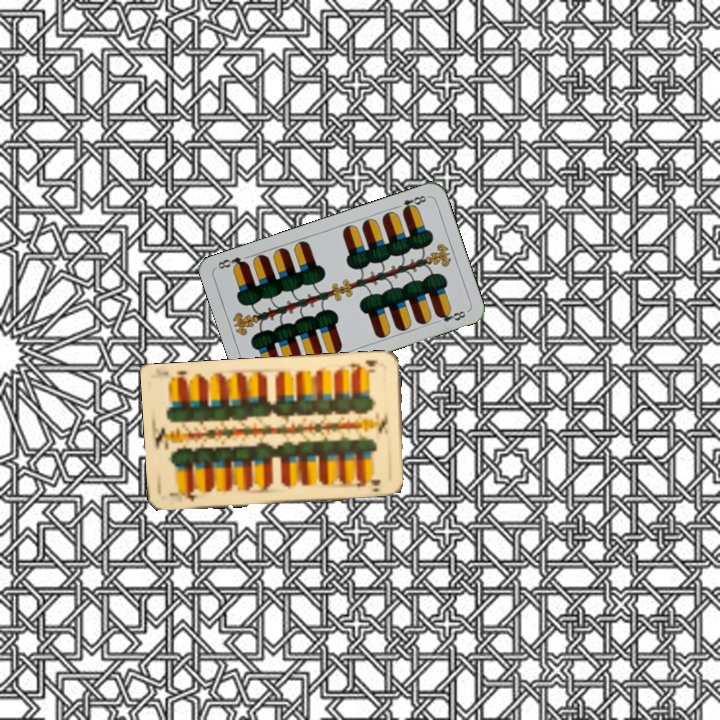E10: (343, 356, 381, 375), (165, 485, 202, 504)
E8: (391, 190, 431, 215)
